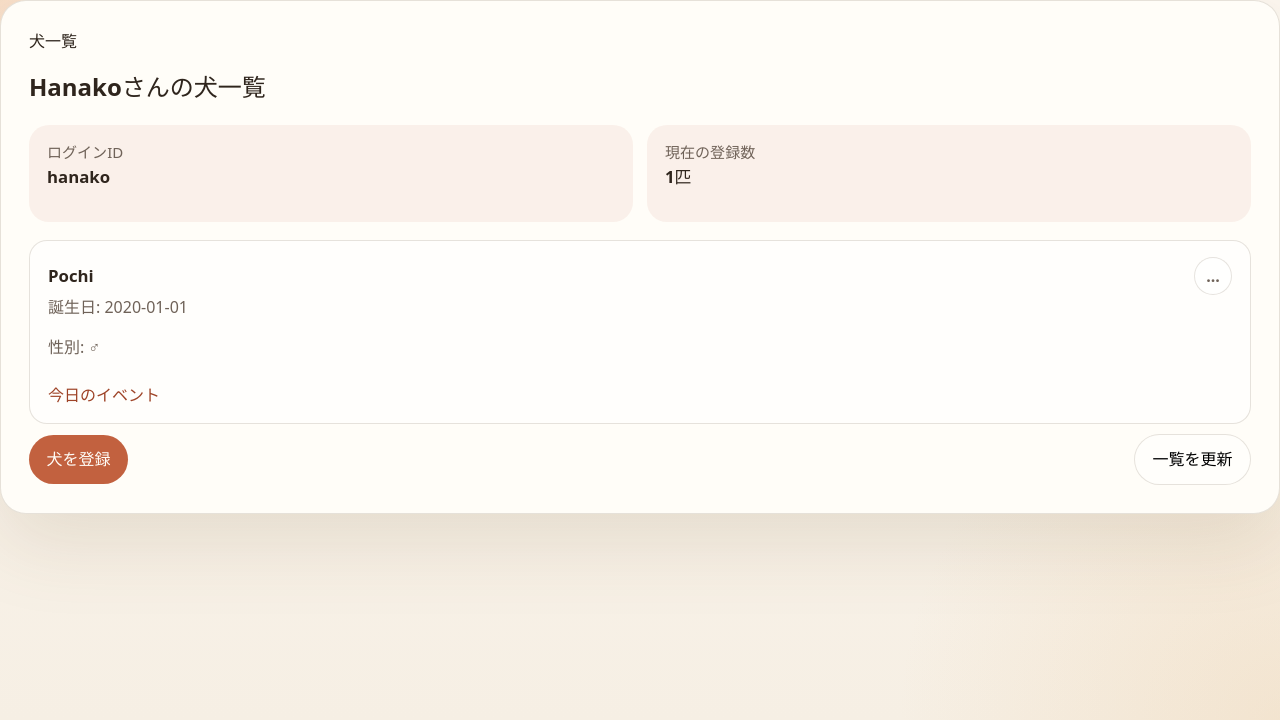
Scenario: DogListView › 犬メニューから飼い主追加フォームを送信すると飼い主追加APIが呼ばれる
Click the button named "Pochiのメニュー". click: (1213, 276)
box: [1194, 256, 1232, 294]
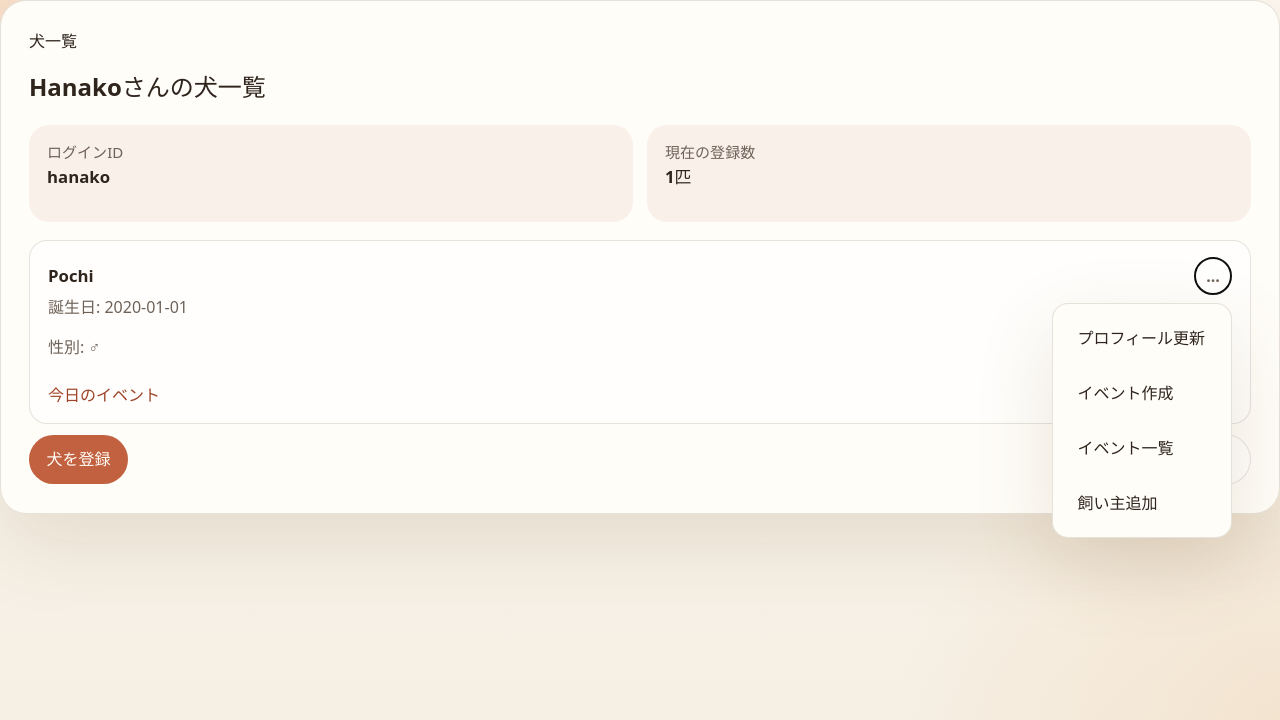
Click the menu item "飼い主追加". click: (1142, 503)
box: [1063, 478, 1221, 527]
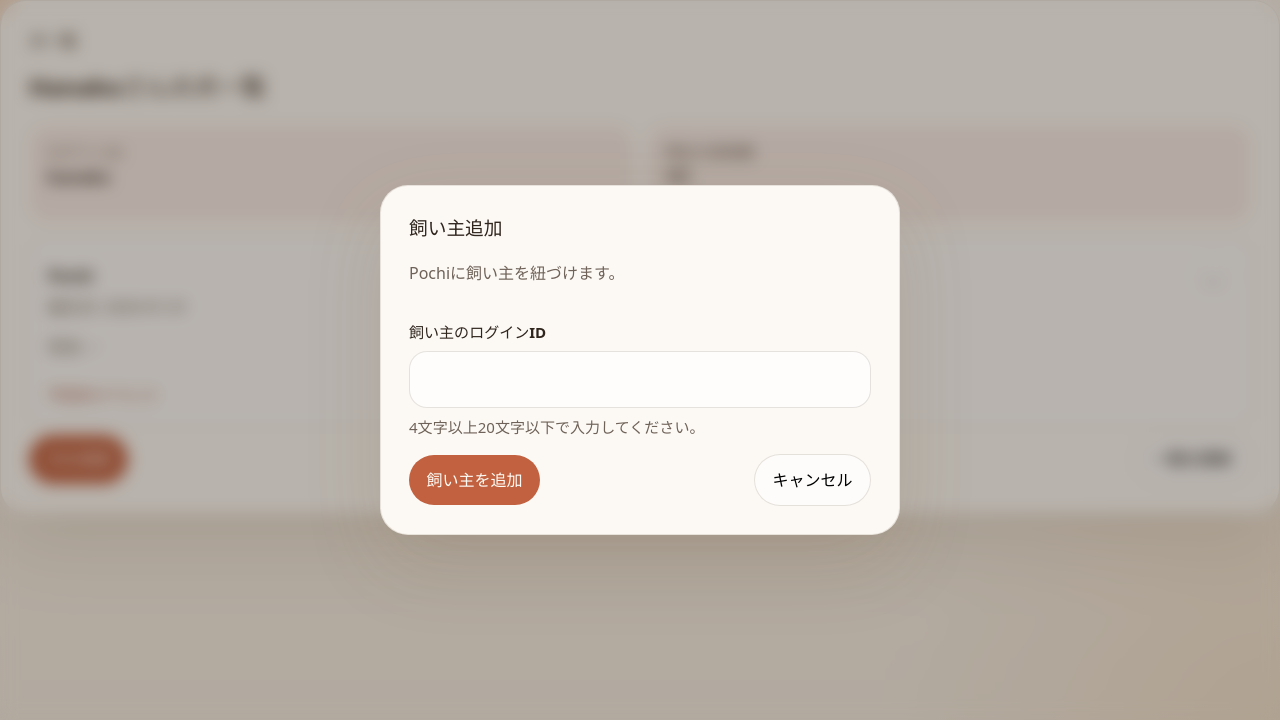
Type " taro " into the field labelled "飼い主のログインID". click: (640, 380)
box: [409, 351, 871, 408]
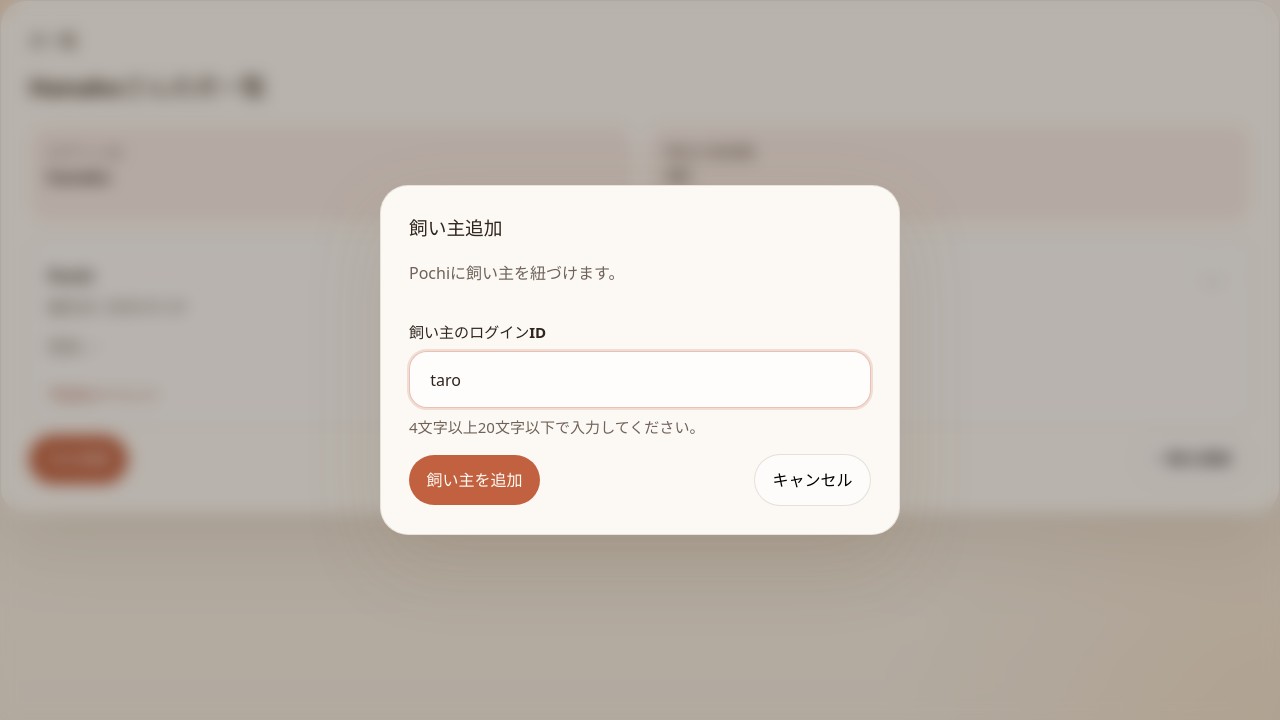
Click the button "飼い主を追加". click: (475, 480)
box: [409, 455, 540, 505]
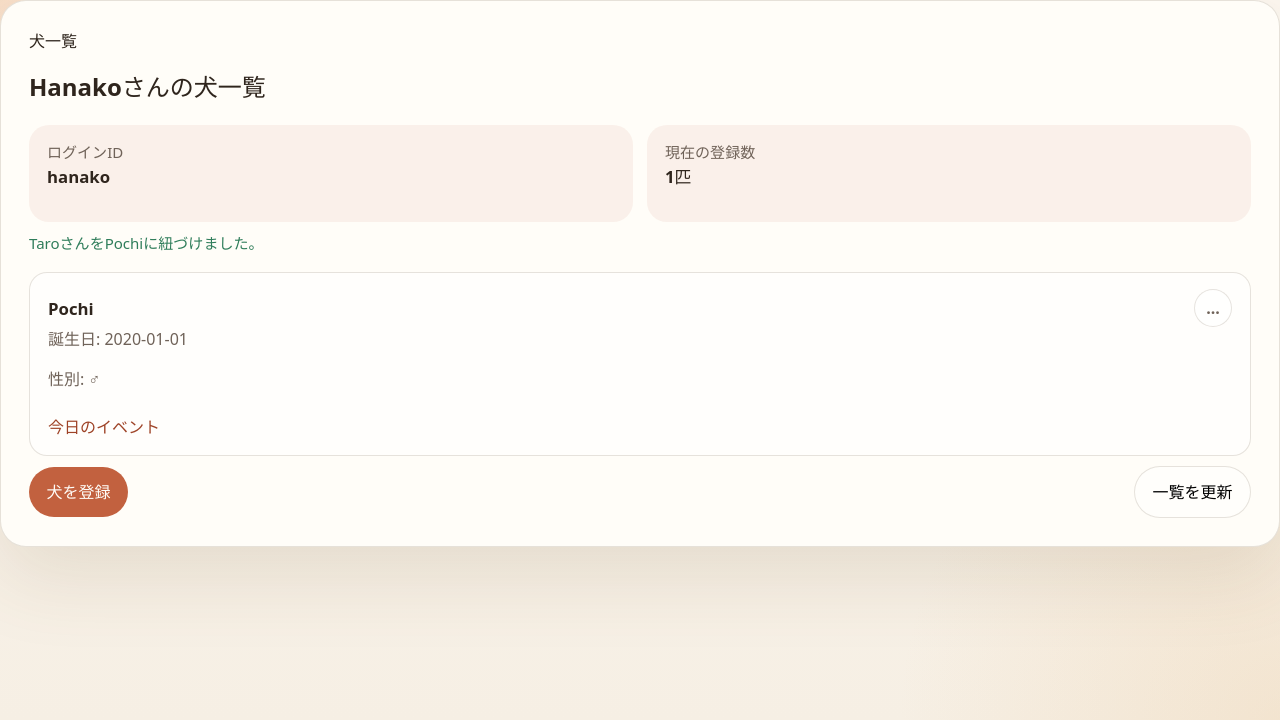
Expected: the text "TaroさんをPochiに紐づけました。" is shown, [29, 232, 264, 252]
